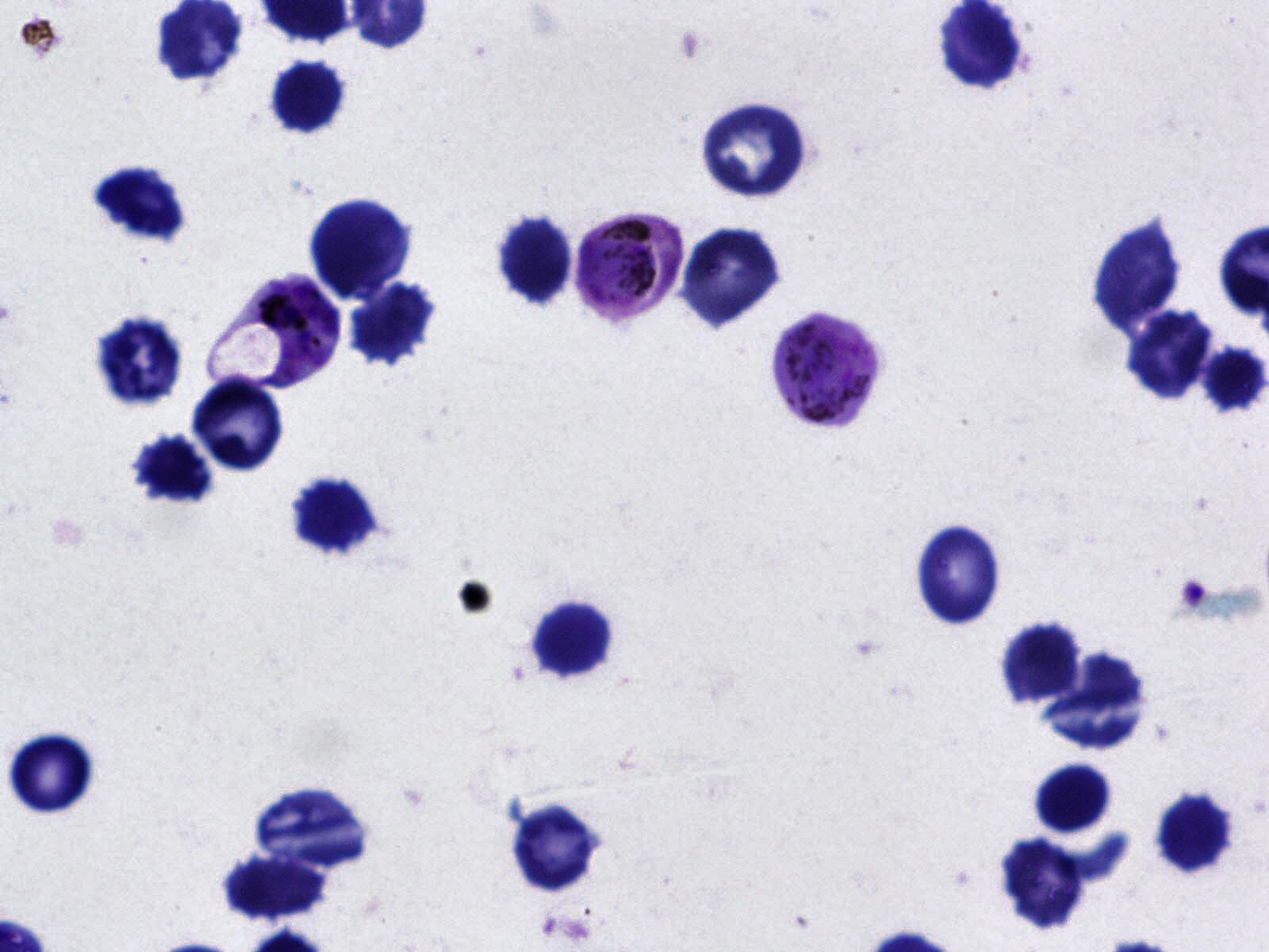Infected: (205, 276, 339, 386), (771, 310, 880, 425), (577, 210, 677, 320)
Uninfected: (700, 105, 803, 199), (683, 225, 777, 326), (194, 377, 287, 474), (1096, 224, 1177, 330), (313, 203, 406, 295), (918, 524, 1002, 625), (258, 791, 365, 870), (1003, 839, 1087, 929), (99, 318, 184, 405), (512, 807, 600, 890), (1130, 312, 1212, 400), (9, 735, 94, 819), (93, 168, 184, 245), (293, 476, 378, 554), (350, 286, 435, 364), (1003, 624, 1083, 704), (1157, 794, 1237, 873), (533, 601, 615, 678), (227, 854, 323, 919), (500, 217, 573, 301), (271, 58, 349, 133), (135, 436, 216, 508), (1035, 761, 1112, 835), (1202, 344, 1269, 412)
